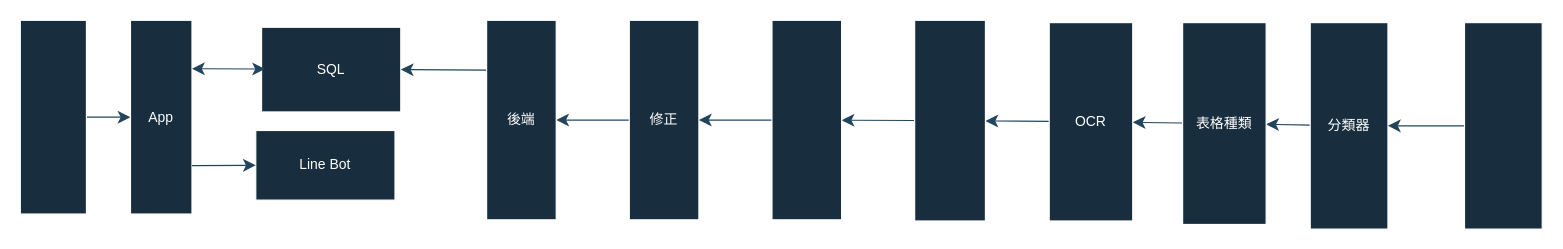
This 1563x249 diagram has some shape labels left out. Each missing label, with the box of its shape:
Chat GPT: (771, 19, 842, 220)
使用者: (19, 19, 86, 214)
文檔: (913, 19, 985, 221)
表格: (1463, 21, 1542, 229)
